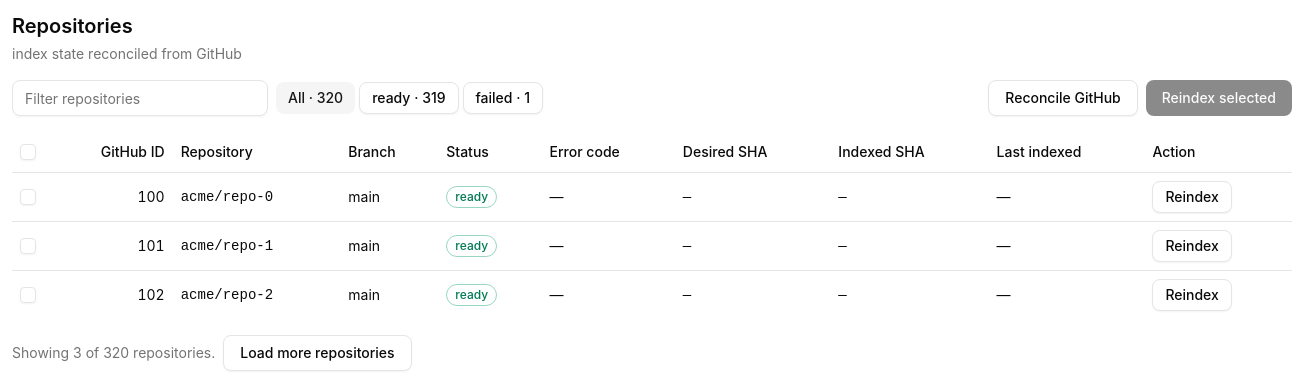
Test case: repositories › follows the cursor, drops duplicate repositories and updates the shown count
Check: the text "Showing 3 of 320 repositories." is shown, box [12,342,215,362]
What coordinates should you click on to do the following:
click the button "Load more repositories"
I would click on:
 (317, 352)
Its box is [223,334,412,370].
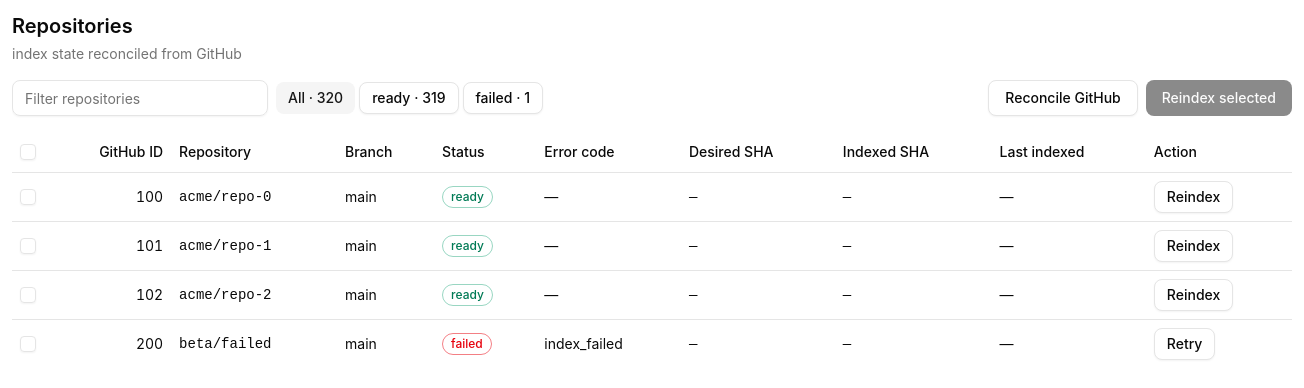
Check: the row "200 beta/failed main failed index_failed — — — Retry" is shown, box [12,319,1292,368]
Check: the number of rows is 5, box [12,132,1292,172]; [12,172,1292,221]; [12,221,1292,270]; [12,270,1292,319]; [12,319,1292,368]
Check: the button "Load more repositories" is gone
